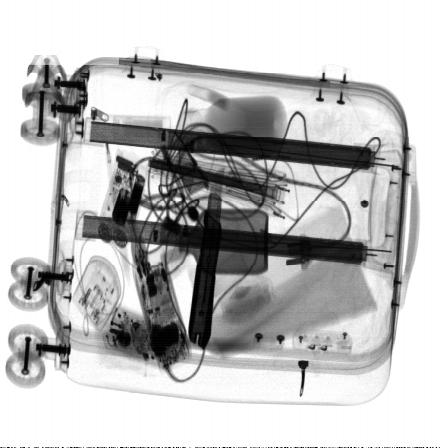Knife: (188, 167, 226, 351)
